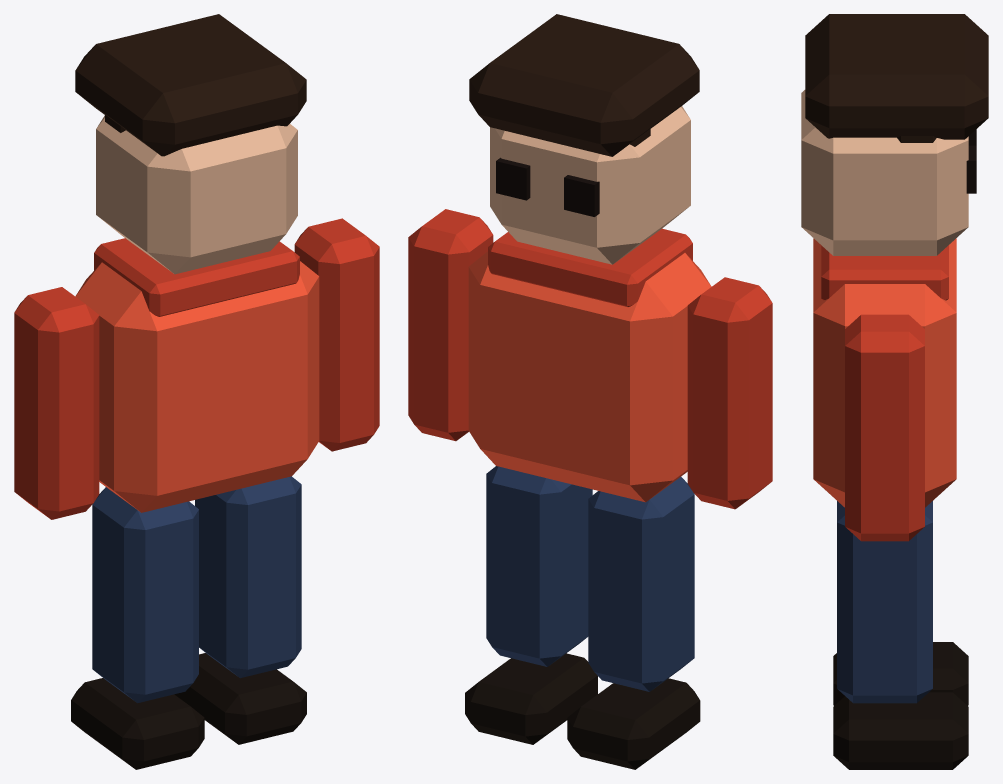
The model's file is character.glb.
The picture shows the model from 3 angles, left to right: view 1: azimuth 30°, elevation 25°; view 2: azimuth 150°, elevation 25°; view 3: azimuth 270°, elevation 25°; orthographic projection.
Visible parts, largest first — view 1: Head, Body, LegL, LegR, ArmL, ArmR, Collar; view 2: Body, Head, LegL, LegR, ArmL, ArmR, Collar; view 3: Head, LegR, ArmR, Body, Collar, LegL.
Boxes of the visible parts, x1=… form: Head: x1=75, y1=14, x2=306, y2=274; Body: x1=75, y1=261, x2=319, y2=512; LegL: x1=71, y1=487, x2=204, y2=769; LegR: x1=174, y1=476, x2=306, y2=744; ArmL: x1=14, y1=287, x2=99, y2=519; ArmR: x1=294, y1=218, x2=379, y2=451; Collar: x1=94, y1=238, x2=299, y2=316; Body: x1=468, y1=251, x2=711, y2=502; Head: x1=469, y1=14, x2=699, y2=264; LegL: x1=567, y1=477, x2=700, y2=769; LegR: x1=465, y1=466, x2=597, y2=744; ArmL: x1=687, y1=277, x2=772, y2=509; ArmR: x1=408, y1=209, x2=493, y2=441; Collar: x1=488, y1=228, x2=692, y2=306; Head: x1=801, y1=14, x2=988, y2=255; LegR: x1=833, y1=501, x2=968, y2=769; ArmR: x1=845, y1=314, x2=924, y2=541; Body: x1=813, y1=238, x2=956, y2=507; Collar: x1=821, y1=245, x2=948, y2=300; LegL: x1=833, y1=642, x2=968, y2=705.
Bounding box in the file's own units: 0.5 × 0.95 × 0.235.
